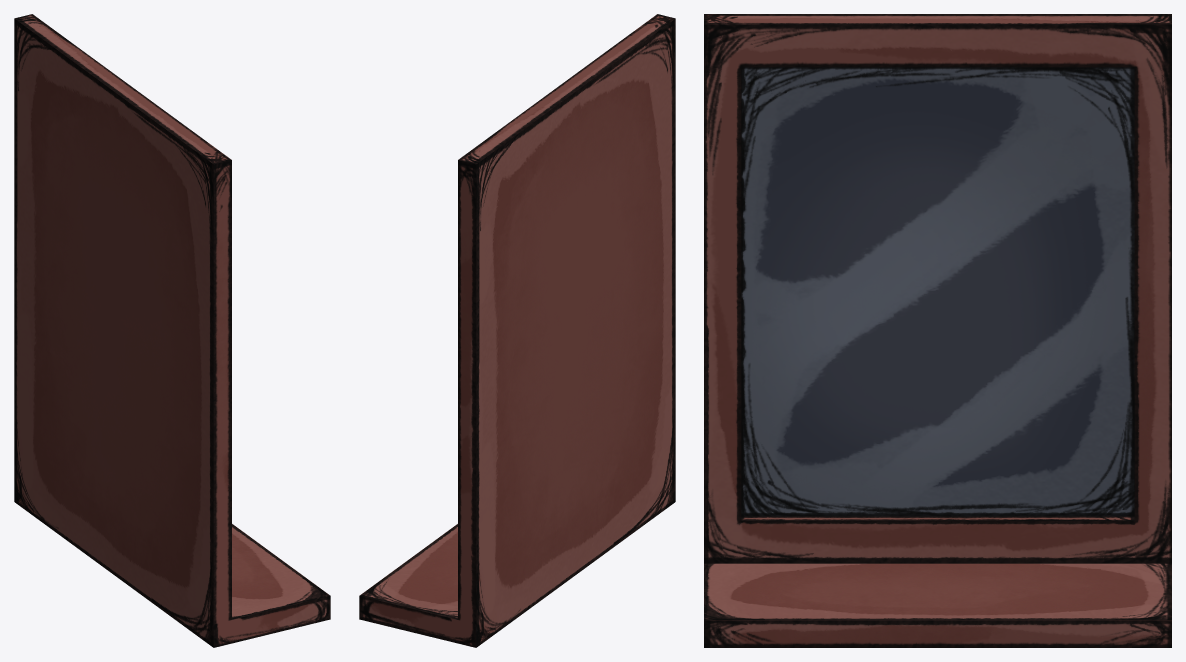
The model's file is mirror.fbx.
The picture shows the model from 3 angles, left to right: view 1: azimuth 30°, elevation 25°; view 2: azimuth 150°, elevation 25°; view 3: azimuth 270°, elevation 25°; orthographic projection. The views are drawn at different scales.
Parts seen in each view (by area): view 1: mirror; view 2: mirror; view 3: mirror.
Boxes of the visible parts, bbox=[...] form: mirror: bbox=[14, 14, 330, 647]; mirror: bbox=[359, 14, 675, 647]; mirror: bbox=[704, 14, 1171, 647].
Size of the model in its own units: 0.2101 by 0.8295 by 0.6203.
1 material, 1 textured.
